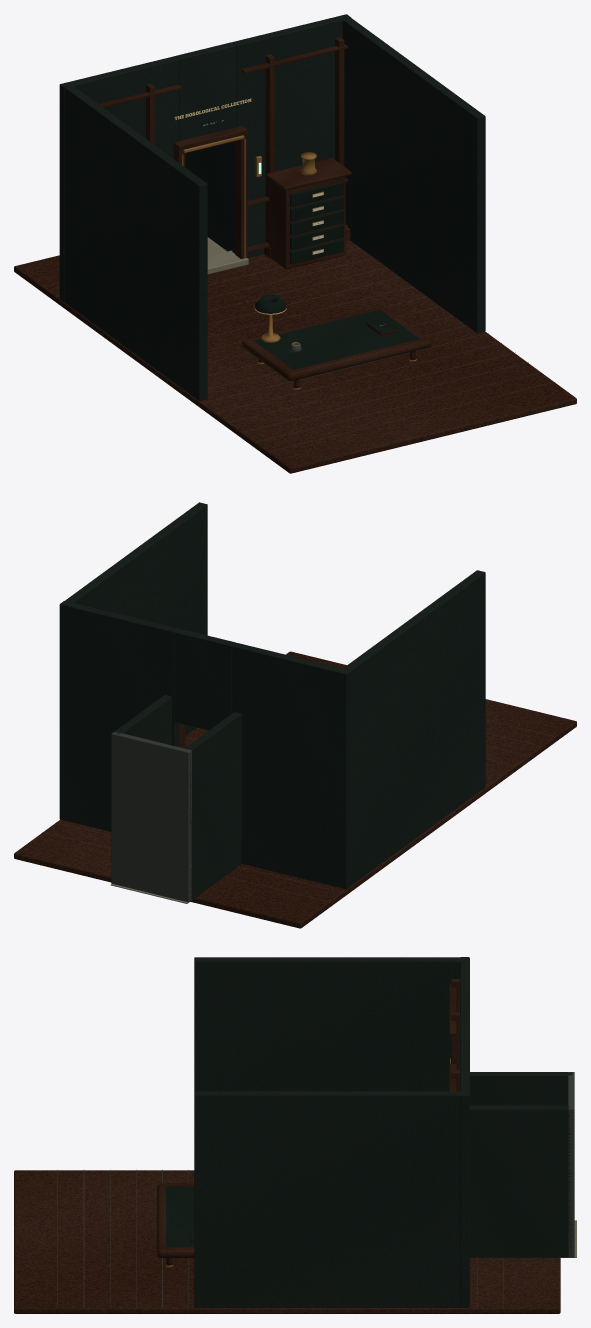
File: watch-alcove.glb
The picture shows the model from 3 angles, top to bottom: view 1: azimuth 30°, elevation 25°; view 2: azimuth 150°, elevation 25°; view 3: azimuth 270°, elevation 25°; orthographic projection.
Parts seen in each view (by area): view 1: Watch_Alcove / Museum green, Watch_Alcove / Walnut, Watch_Alcove / Forest velvet, Watch_Alcove / Engraved charcoal, Watch_Alcove / Aged brass, Watch_Alcove / Warm limestone; view 2: Watch_Alcove / Museum green, Watch_Alcove / Walnut, Watch_Alcove / Engraved charcoal; view 3: Watch_Alcove / Museum green, Watch_Alcove / Walnut, Watch_Alcove / Engraved charcoal, Watch_Alcove / Forest velvet.
Part boxes in pixels (left/top/right/bottom): Watch_Alcove / Museum green: left=59, top=14, right=485, bottom=400; Watch_Alcove / Walnut: left=14, top=37, right=576, bottom=473; Watch_Alcove / Forest velvet: left=254, top=181, right=419, bottom=369; Watch_Alcove / Engraved charcoal: left=42, top=223, right=554, bottom=451; Watch_Alcove / Aged brass: left=182, top=135, right=416, bottom=390; Watch_Alcove / Warm limestone: left=207, top=237, right=248, bottom=274; Watch_Alcove / Museum green: left=59, top=502, right=485, bottom=901; Watch_Alcove / Walnut: left=14, top=651, right=576, bottom=928; Watch_Alcove / Engraved charcoal: left=42, top=720, right=555, bottom=902; Watch_Alcove / Museum green: left=194, top=957, right=572, bottom=1307; Watch_Alcove / Walnut: left=14, top=979, right=560, bottom=1313; Watch_Alcove / Engraved charcoal: left=57, top=1072, right=574, bottom=1308; Watch_Alcove / Forest velvet: left=166, top=1186, right=194, bottom=1247.
Size of the model in its own units: 6 by 4.42 by 10.3.
9 materials, 6 textured.
